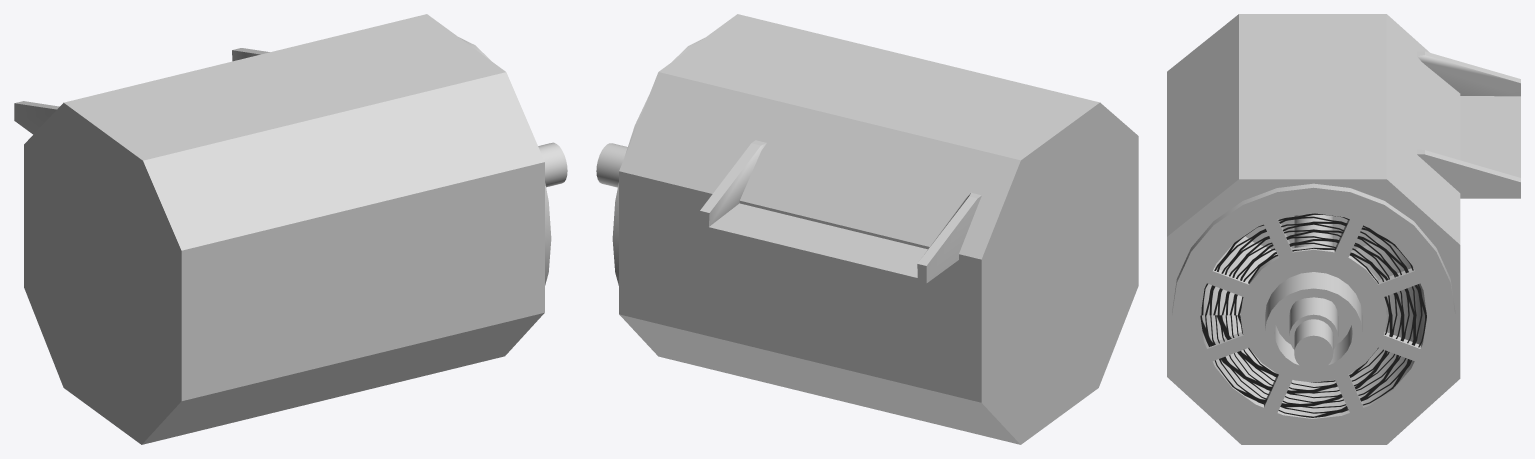
The model's file is TractionMotor.gltf.
The picture shows the model from 3 angles, left to right: view 1: azimuth 30°, elevation 25°; view 2: azimuth 150°, elevation 25°; view 3: azimuth 270°, elevation 25°; orthographic projection. The views are drawn at different scales.
Visible parts, largest first — view 1: Box, Cylinder6, Cylinder, Cylinder5, Box5, Cylinder1; view 2: Box, Cylinder6, Box5, Cylinder, Cylinder5, Cylinder1; view 3: Box, Cylinder1, Cylinder, Box5, Cylinder7, Cylinder2, Cylinder3, Box3, Box2, Cylinder5, Box1, Box4 (+2 smaller).
Part boxes in pixels (left/top/right/bottom): Box: left=24, top=14, right=544, bottom=444; Cylinder6: left=40, top=124, right=181, bottom=406; Cylinder: left=25, top=121, right=181, bottom=426; Cylinder5: left=92, top=142, right=567, bottom=294; Box5: left=14, top=48, right=269, bottom=134; Cylinder1: left=459, top=37, right=551, bottom=285; Box: left=619, top=14, right=1138, bottom=444; Cylinder6: left=984, top=132, right=1130, bottom=415; Box5: left=700, top=140, right=981, bottom=283; Cylinder: left=981, top=122, right=1138, bottom=426; Cylinder5: left=596, top=143, right=1070, bottom=294; Cylinder1: left=612, top=38, right=704, bottom=285; Box: left=1167, top=14, right=1460, bottom=444; Cylinder1: left=1172, top=183, right=1455, bottom=444; Cylinder: left=1167, top=179, right=1459, bottom=444; Box5: left=1417, top=51, right=1520, bottom=198; Cylinder7: left=1200, top=213, right=1426, bottom=417; Cylinder2: left=1240, top=245, right=1386, bottom=382; Cylinder3: left=1265, top=272, right=1362, bottom=376; Box3: left=1187, top=264, right=1439, bottom=368; Box2: left=1187, top=263, right=1440, bottom=368; Cylinder5: left=1294, top=214, right=1333, bottom=370; Box1: left=1256, top=201, right=1371, bottom=431; Box4: left=1258, top=201, right=1371, bottom=430.
Bounding box in the file's own units: 1 × 0.6 × 0.7238.
14 materials, 1 textured.
